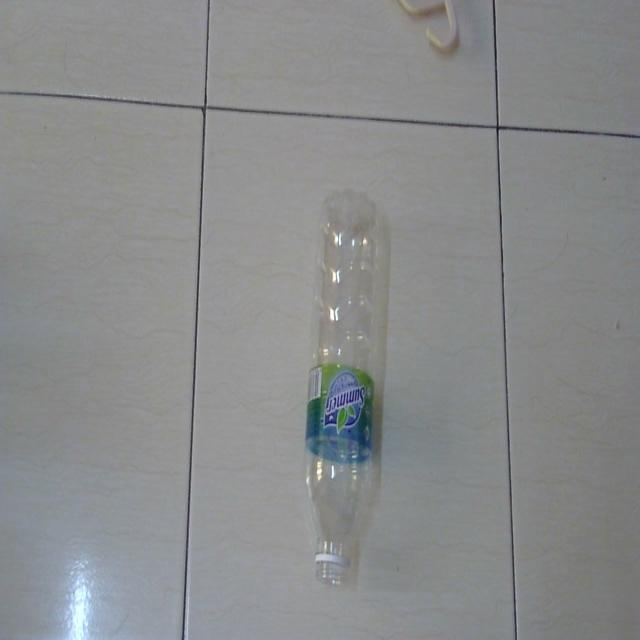plastic_laydown_90rotation: (297, 185, 398, 594)
